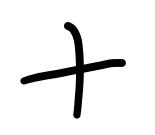plus: (20, 22, 126, 118)
